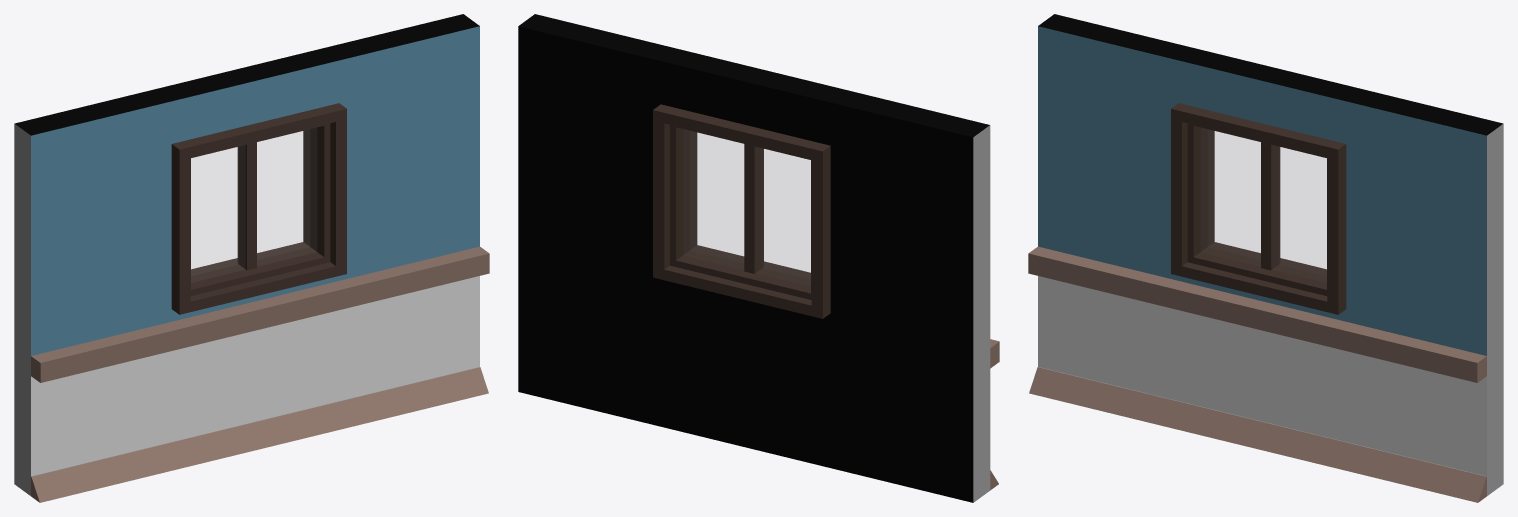
The model's file is mur fenetre.fbx.
The picture shows the model from 3 angles, left to right: view 1: azimuth 30°, elevation 25°; view 2: azimuth 150°, elevation 25°; view 3: azimuth 330°, elevation 25°; orthographic projection.
Parts seen in each view (by area): view 1: mur_fenetre; view 2: mur_fenetre; view 3: mur_fenetre.
Boxes of the visible parts, x1,y1,x2,y2 form: mur_fenetre: (14, 14, 489, 502); mur_fenetre: (518, 14, 999, 502); mur_fenetre: (1028, 14, 1503, 502).
Size of the model in its own units: 3.91 by 3 by 0.51.
